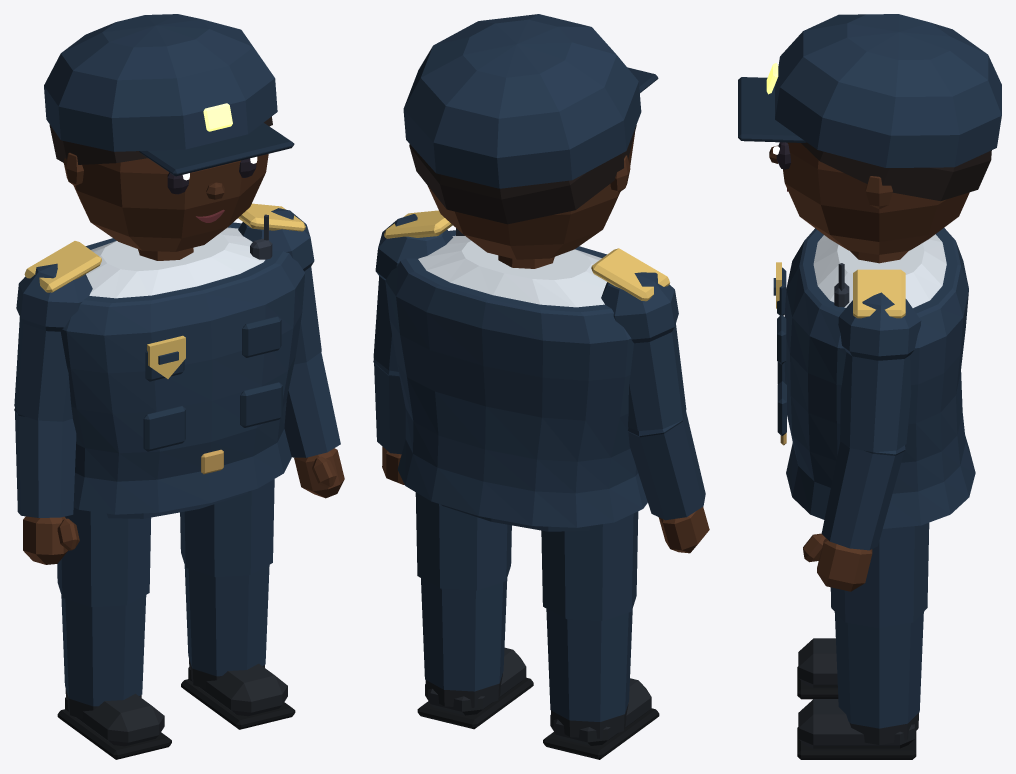
The model's file is sic_grundmodell.glb.
3 views of the same model, side by side, from view 1: azimuth 30°, elevation 25°; view 2: azimuth 150°, elevation 25°; view 3: azimuth 270°, elevation 25° (orthographic).
Visible parts, largest first — view 1: jacke, kopfbedeckung, bein_r, bein_l, arm_r, kopf, arm_l, torso, taschen, schuh_r, schuh_l, schulterklappen (+6 smaller); view 2: jacke, kopfbedeckung, bein_r, bein_l, arm_r, torso, haare, kopf, arm_l, schuh_l, schuh_r, schulterklappen (+1 smaller); view 3: kopfbedeckung, jacke, arm_l, bein_l, kopf, schuh_l, torso, haare, hand_l, schuh_r, schulterklappen, taschen (+2 smaller).
Boxes of the visible parts, x1,y1,x2,y2 form: jacke: (61, 222, 305, 514); kopfbedeckung: (44, 14, 294, 176); bein_r: (57, 507, 151, 706); bein_l: (180, 479, 274, 676); arm_r: (14, 263, 92, 517); kopf: (63, 152, 268, 251); arm_l: (238, 208, 340, 457); torso: (86, 227, 264, 298); taschen: (143, 316, 282, 451); schuh_r: (57, 689, 171, 759); schuh_l: (181, 659, 295, 729); schulterklappen: (24, 203, 305, 292); jacke: (385, 230, 647, 527); kopfbedeckung: (403, 14, 658, 188); bein_r: (541, 511, 638, 721); bein_l: (415, 492, 511, 691); arm_r: (601, 272, 705, 520); torso: (418, 235, 606, 307); haare: (409, 125, 636, 224); kopf: (428, 133, 634, 259); arm_l: (373, 214, 452, 454); schuh_l: (417, 647, 533, 729); schuh_r: (543, 678, 659, 759); schulterklappen: (384, 210, 669, 301); kopfbedeckung: (738, 14, 1001, 167); jacke: (784, 228, 975, 528); arm_l: (821, 292, 921, 550); bein_l: (830, 522, 929, 728); kopf: (783, 142, 969, 254); schuh_l: (797, 699, 919, 759); torso: (813, 234, 946, 307); haare: (801, 142, 991, 201); hand_l: (803, 533, 872, 591); schuh_r: (797, 638, 838, 699); schulterklappen: (853, 269, 905, 318); taschen: (777, 267, 786, 435).
Size of the model in its own units: 0.0127 by 0.0259 by 0.00903.
